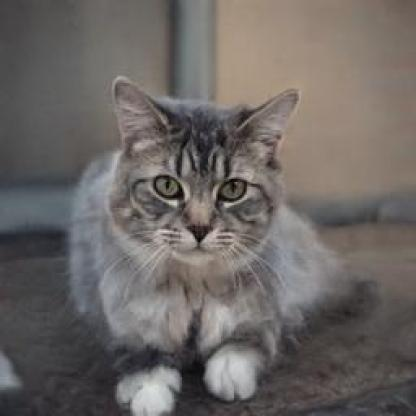cat: (90, 76, 302, 372)
